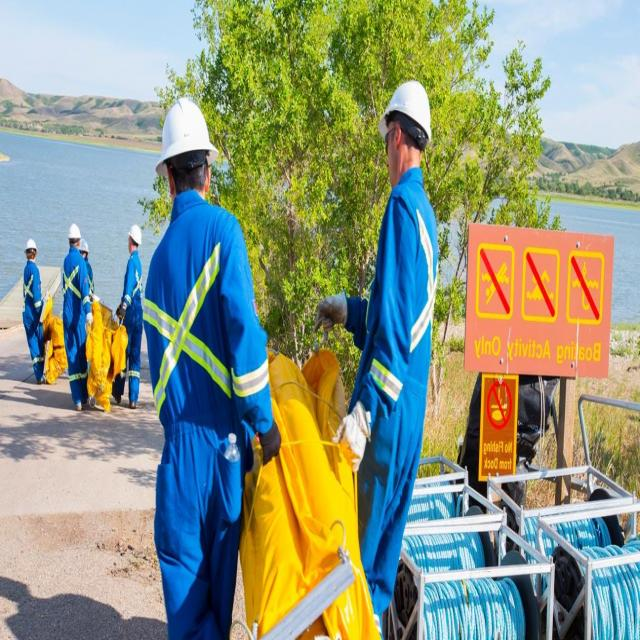Reflective-Jacket: (143, 201, 242, 420), (372, 173, 438, 416), (62, 250, 92, 318), (20, 261, 43, 322)
Safety-Helmet: (153, 92, 219, 174), (376, 73, 434, 147), (127, 218, 144, 252), (23, 234, 40, 255), (67, 219, 83, 239)
